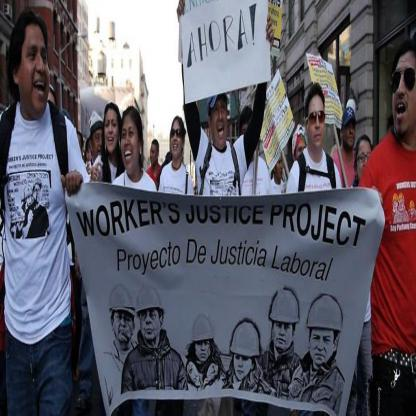face: (19, 24, 50, 116), (391, 53, 416, 135), (122, 115, 140, 175), (309, 95, 326, 148), (311, 329, 335, 365), (212, 99, 228, 146), (274, 321, 294, 354), (106, 108, 120, 153), (114, 312, 134, 343), (358, 141, 372, 183), (141, 310, 160, 340), (234, 354, 253, 380), (171, 119, 183, 157), (241, 123, 254, 151), (196, 341, 212, 363), (344, 118, 356, 147), (93, 129, 105, 155), (297, 142, 307, 165), (277, 156, 284, 180), (151, 143, 158, 166)
